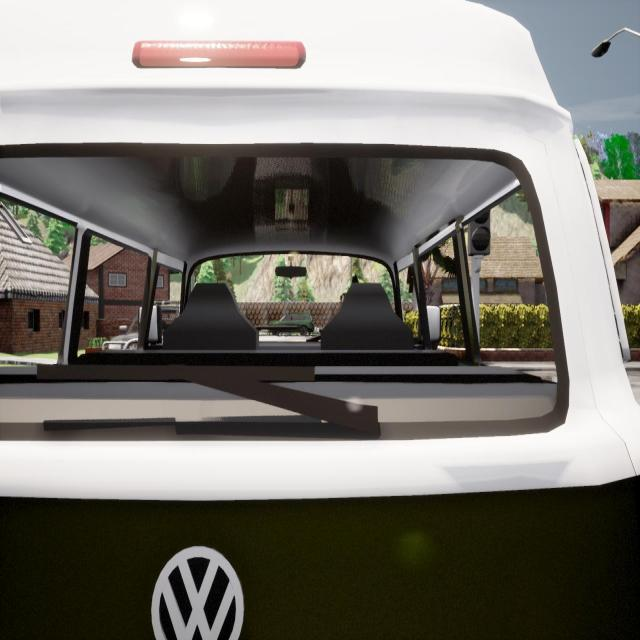Vehicle: (0, 0, 639, 640), (101, 301, 180, 351), (268, 312, 315, 336)
traffic_light: (467, 211, 490, 255)
